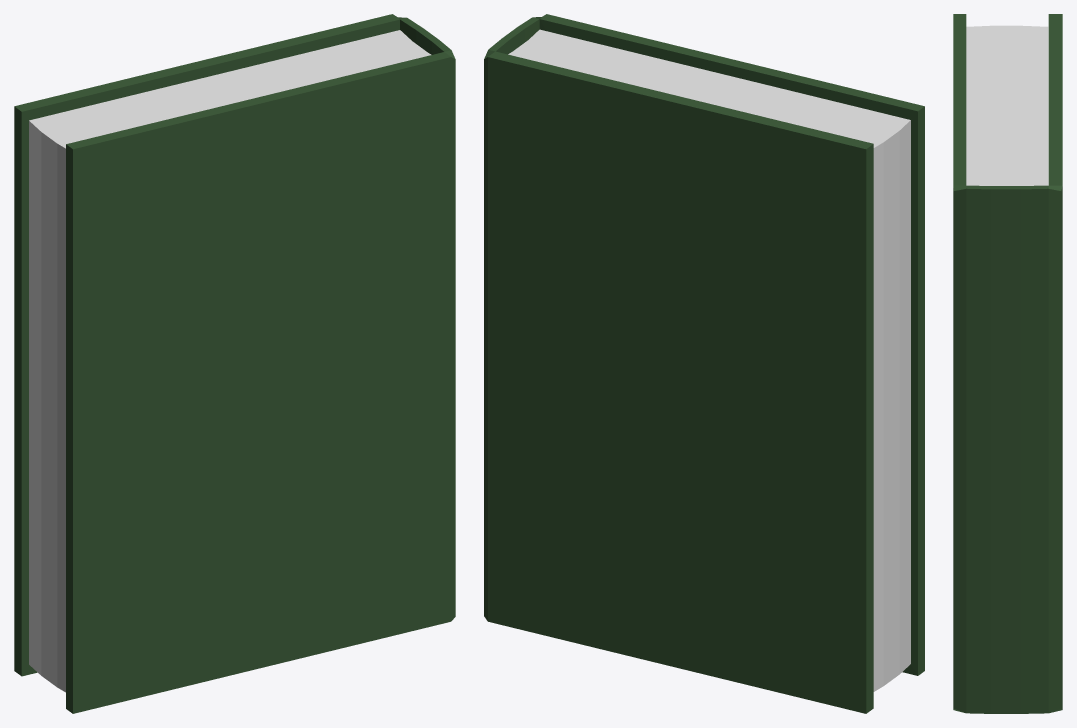
File: VJ_Llibre_Verd.fbx
The picture shows the model from 3 angles, left to right: view 1: azimuth 30°, elevation 25°; view 2: azimuth 150°, elevation 25°; view 3: azimuth 270°, elevation 25°; orthographic projection. The views are drawn at different scales.
Visible parts, largest first — view 1: Llibre_Verd; view 2: Llibre_Verd; view 3: Llibre_Verd.
Part boxes in pixels (x1,y1,x2,y2): Llibre_Verd: [14, 14, 455, 713]; Llibre_Verd: [484, 14, 924, 713]; Llibre_Verd: [953, 14, 1062, 713].
Bounding box in the file's own units: 3.56 × 4.96 × 0.9356.
